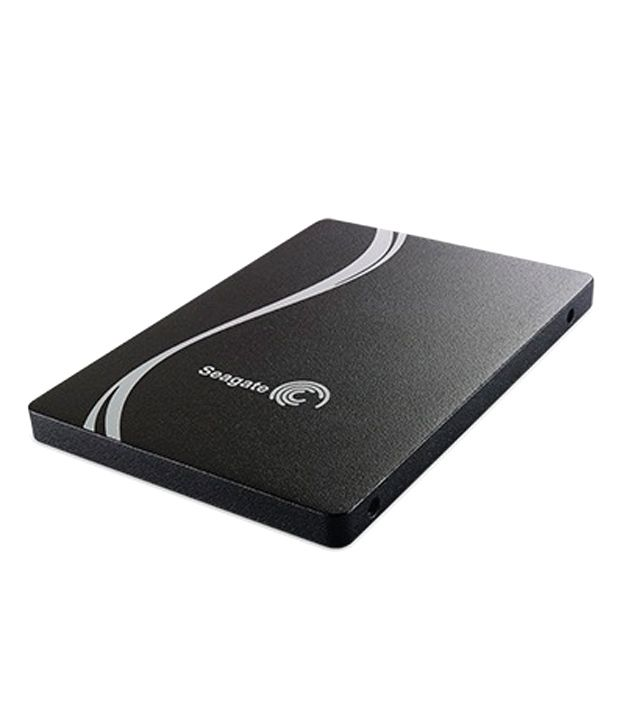seagate-hdd-240gb: (7, 209, 607, 546)
